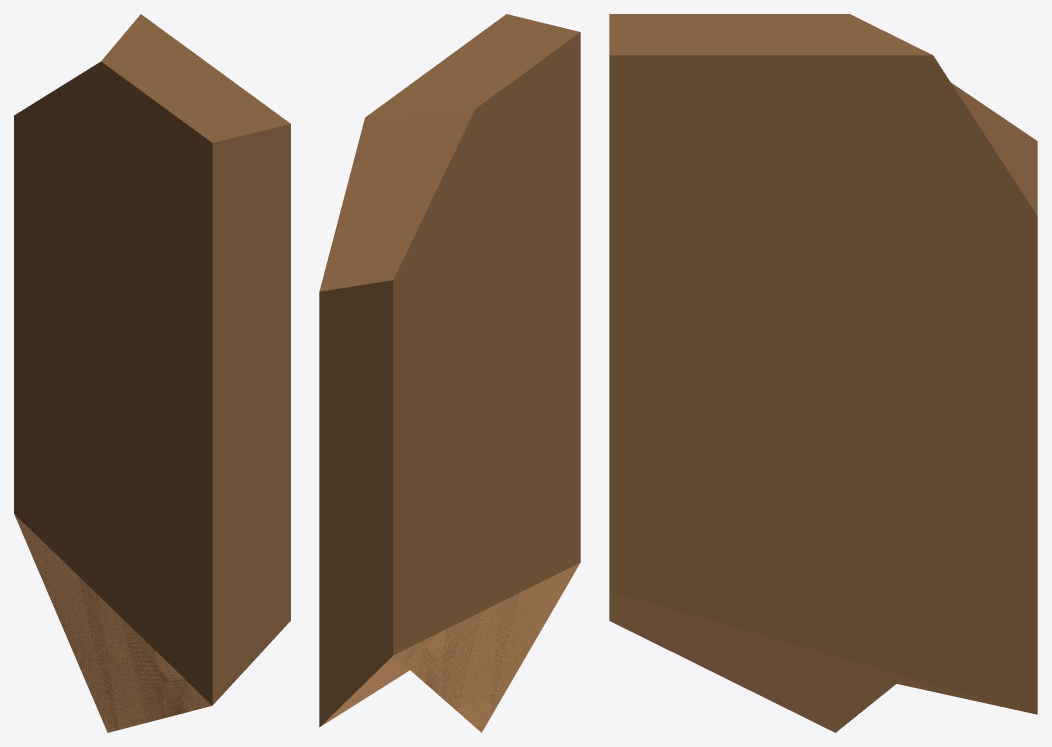
File: crate_piece.fbx
The picture shows the model from 3 angles, left to right: view 1: azimuth 30°, elevation 25°; view 2: azimuth 150°, elevation 25°; view 3: azimuth 270°, elevation 25°; orthographic projection. The views are drawn at different scales.
Visible parts, largest first — view 1: Cube.001; view 2: Cube.001; view 3: Cube.001.
Part boxes in pixels (x1,y1,x2,y2): Cube.001: (14, 14, 290, 732); Cube.001: (319, 14, 580, 732); Cube.001: (609, 14, 1037, 732).
Size of the model in its own units: 13.63 by 111 by 59.72.
